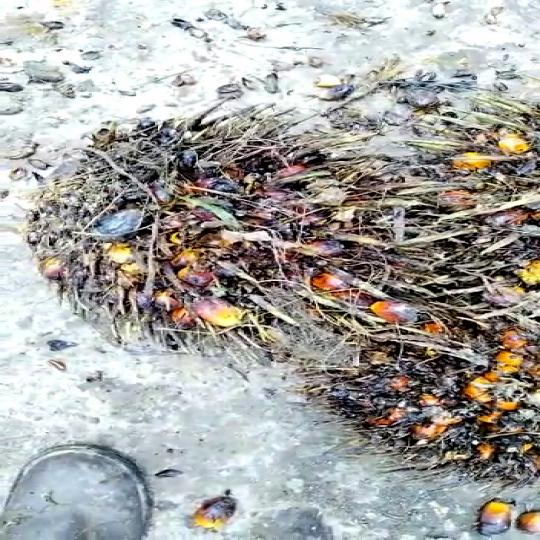terlalu masak: (31, 114, 464, 367)
